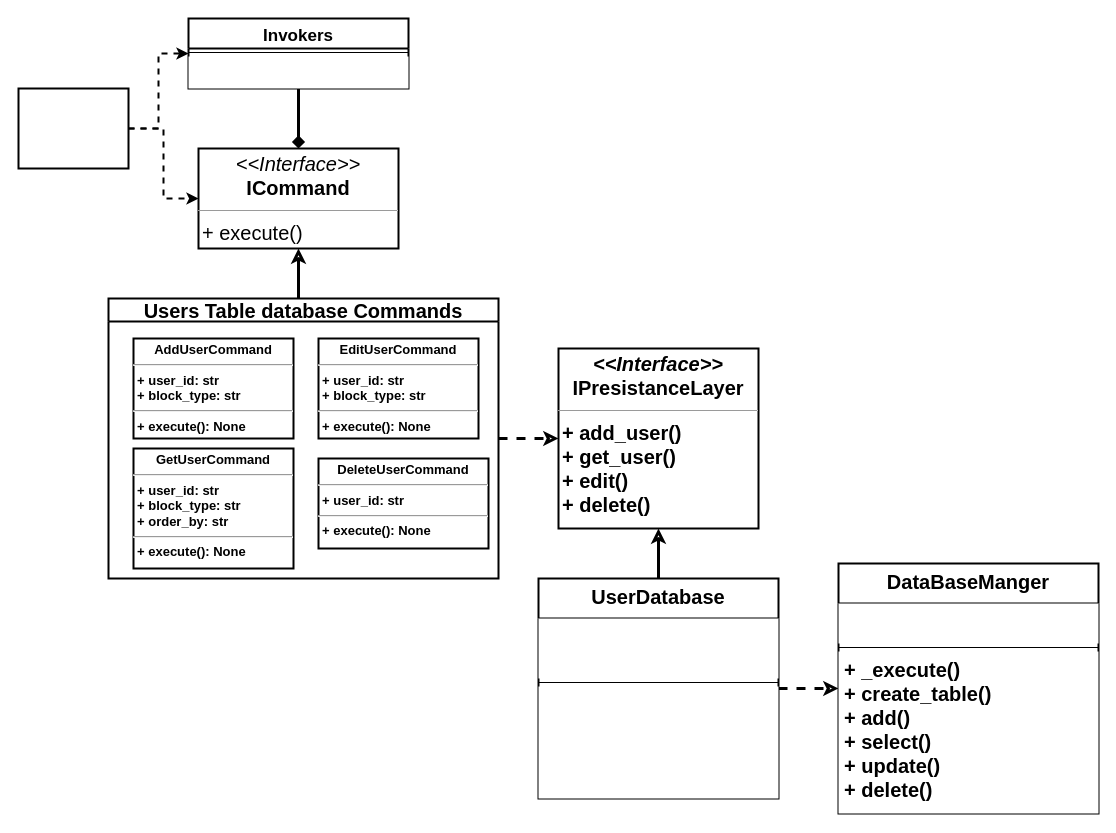
The diagram is 1116 pixels wide and 833 high, and some of its shapes have lost their labels. The centre of each missing label's shape, as x and y in pixels:
"+ add_user() + get_user() + edit() + delete()" belongs at [658,742].
"+ database_filename: str" belongs at [968,623].
"+ ICommand().Execute()" belongs at [298,72].
"+ table_name: str + db: DataBaseManger" belongs at [658,648].
"Client" belongs at [73,128].
